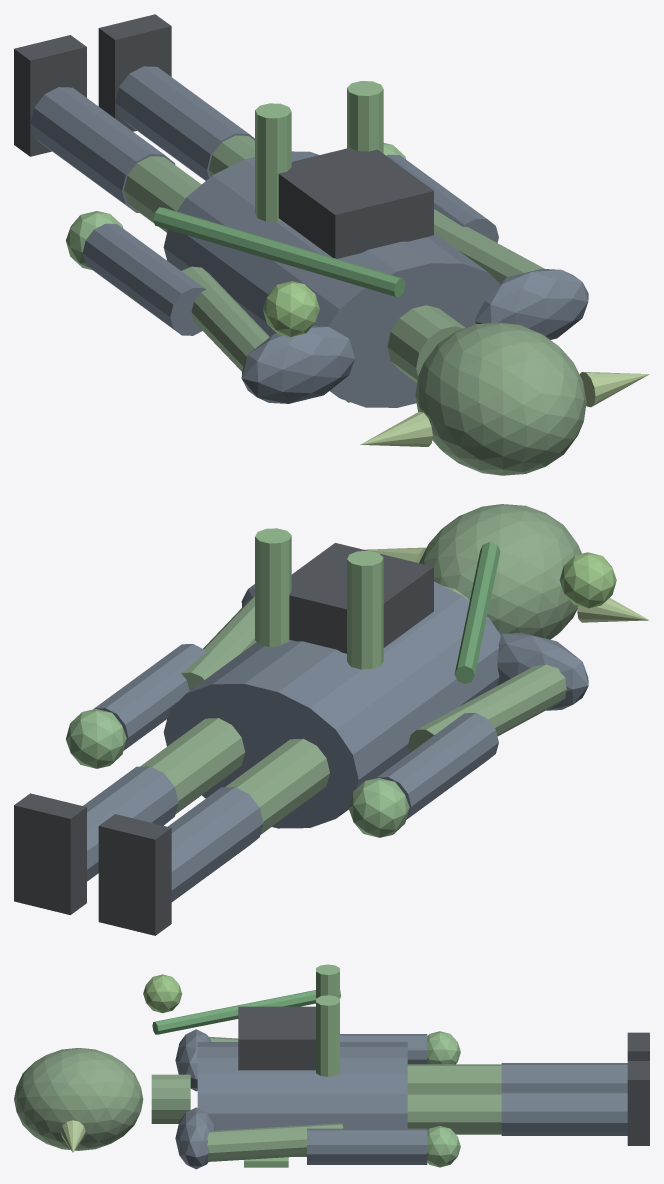
Rendered from SWN-032_oda_cael.glb.
3 renders of one model, top to bottom at view 1: azimuth 30°, elevation 25°; view 2: azimuth 150°, elevation 25°; view 3: azimuth 270°, elevation 25°, orthographic. The views are drawn at different scales.
Visible parts, largest first — view 1: body_spine, head, back_thruster_pack, greave_-1, greave_1, forearm_gauntlet_-1, shoulder_plate_-1, shoulder_plate_1, vine_back_arc, boot_-1, boot_1, upper_arm_-1 (+11 smaller); view 2: body_spine, head, back_thruster_pack, boot_-1, boot_1, greave_-1, forearm_gauntlet_-1, thigh_1, thigh_-1, upper_arm_-1, forearm_gauntlet_1, greave_1 (+9 smaller); view 3: body_spine, head, greave_1, back_thruster_pack, forearm_gauntlet_1, thigh_1, greave_-1, upper_arm_1, thigh_-1, vine_back_arc, boot_1, aether_thruster_1 (+11 smaller).
Part boxes in pixels (x1,y1,x2,y2): body_spine: (163,151,500,407); head: (415,322,586,475); back_thruster_pack: (278,148,433,258); greave_-1: (30,87,175,212); greave_1: (115,66,254,180); forearm_gauntlet_-1: (82,223,205,335); shoulder_plate_-1: (241,326,355,403); shoulder_plate_1: (475,268,588,339); vine_back_arc: (153,207,405,296); boot_-1: (14,35,86,156); boot_1: (98,14,171,131); upper_arm_-1: (181,266,269,371); body_spine: (163,581,500,828); head: (419,504,581,639); back_thruster_pack: (289,543,433,653); boot_-1: (98,814,171,935); boot_1: (14,793,86,914); greave_-1: (168,787,263,901); forearm_gauntlet_-1: (376,713,498,819); thigh_1: (140,718,245,813); thigh_-1: (225,738,329,834); upper_arm_-1: (408,664,566,752); forearm_gauntlet_1: (93,644,205,750); greave_1: (83,766,178,881); body_spine: (197,1042,407,1156); head: (14,1048,143,1150); greave_1: (501,1091,627,1135); back_thruster_pack: (238,1006,315,1070); forearm_gauntlet_1: (307,1128,427,1164); thigh_1: (407,1092,501,1134); greave_-1: (501,1063,627,1091); upper_arm_1: (207,1123,343,1161); thigh_-1: (407,1064,501,1092); vine_back_arc: (152,990,340,1034); boot_1: (627,1061,649,1145); aether_thruster_1: (316,995,339,1076).
Bounding box in the file's own units: 0.982 × 0.6775 × 2.27.
